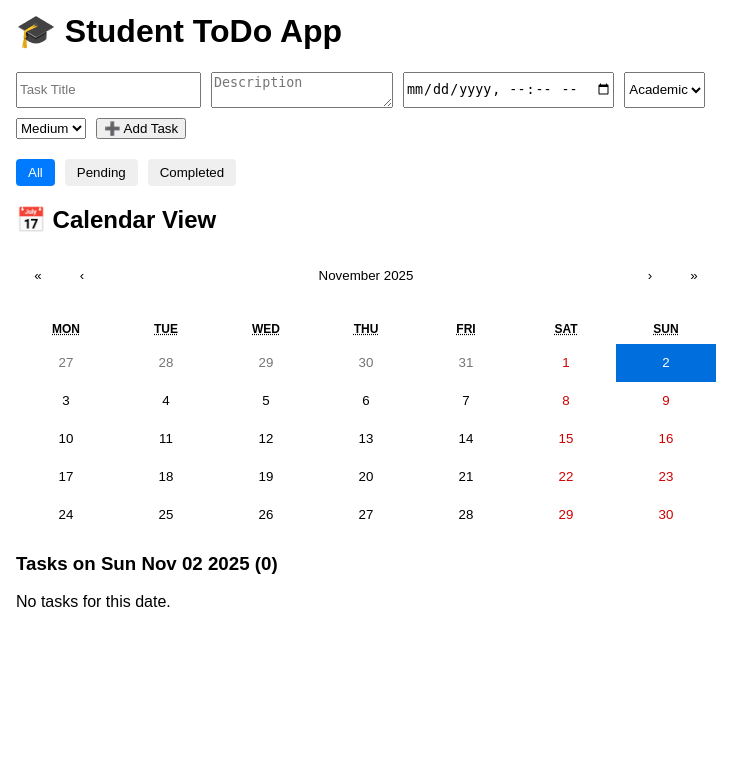
Test: adds a new task and displays it in the list
# simulate adding a new task
In the field with placeholder "Task Title": (108,90) [16, 72, 201, 108], type "Submit SE Review 3"
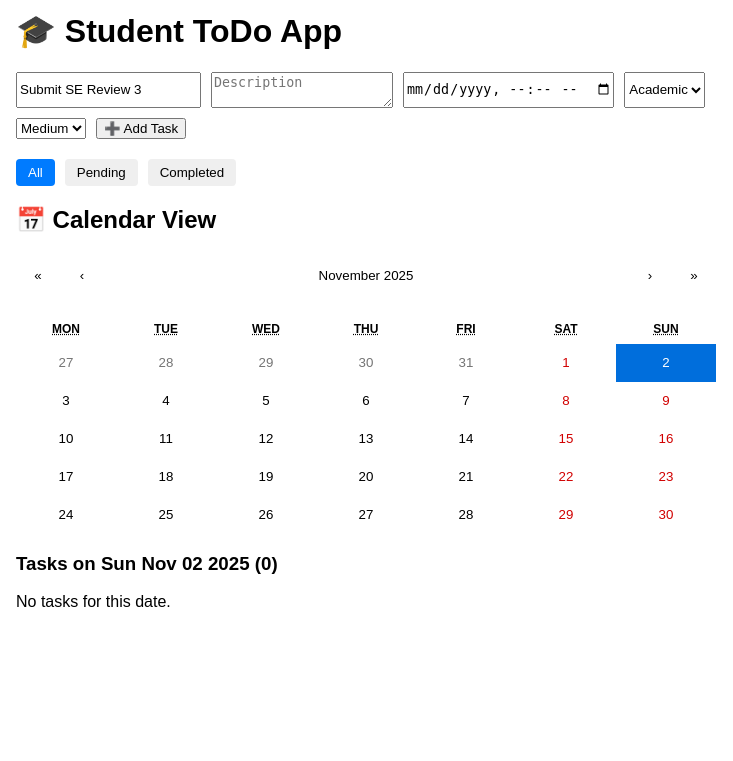
Click the button "➕ Add Task": (141,128) [96, 118, 186, 139]
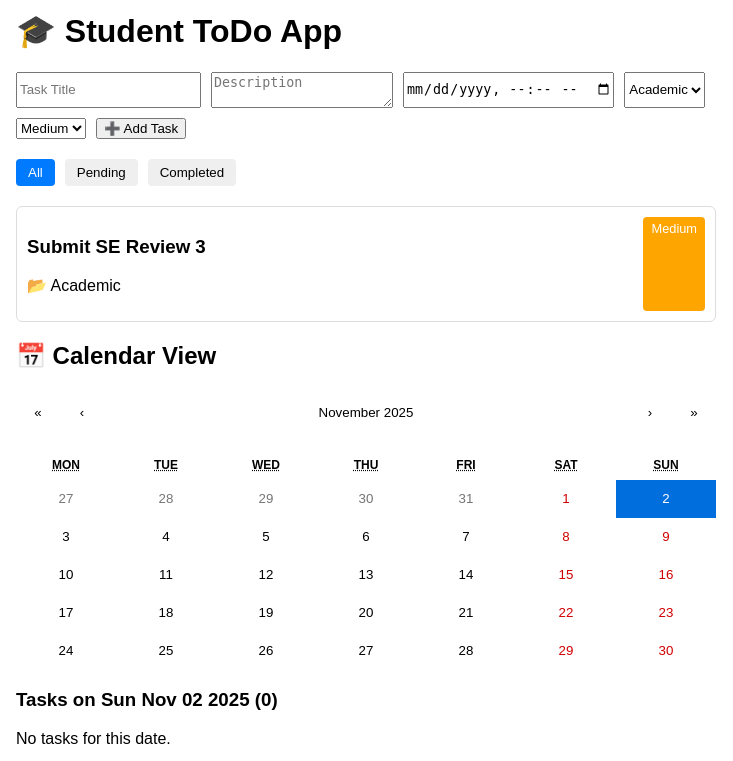
Check: the heading "Submit SE Review 3" is shown, box [27, 236, 206, 258]
